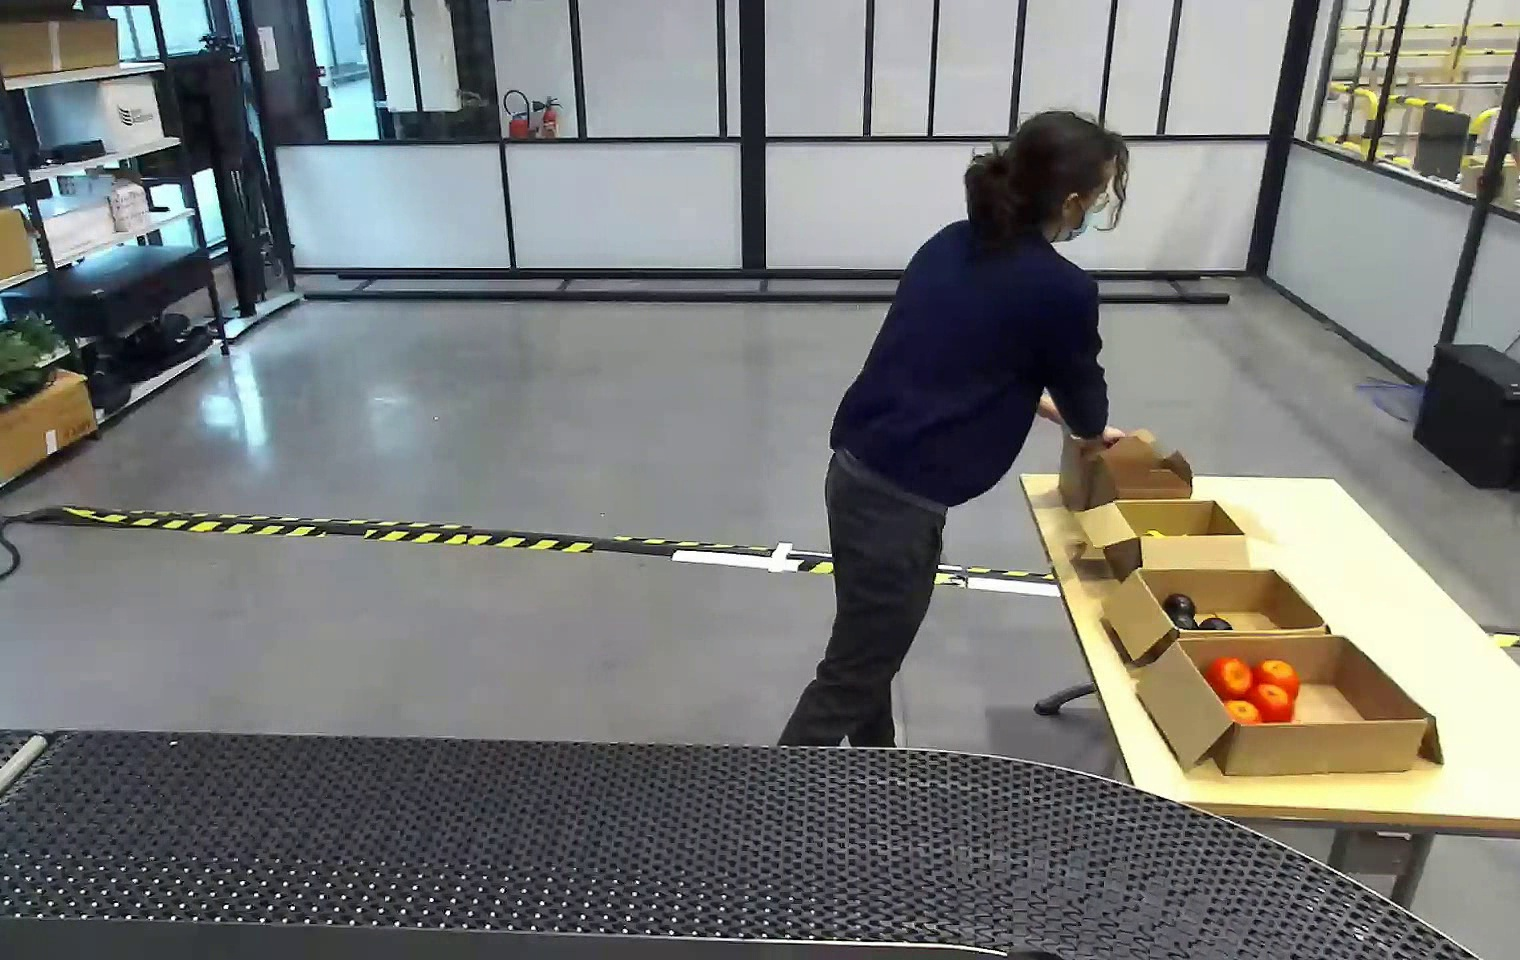Main droite: (1077, 612, 1171, 695)
